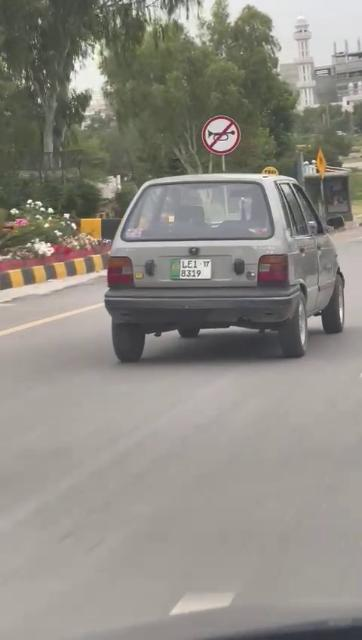plate: (172, 258, 214, 282)
